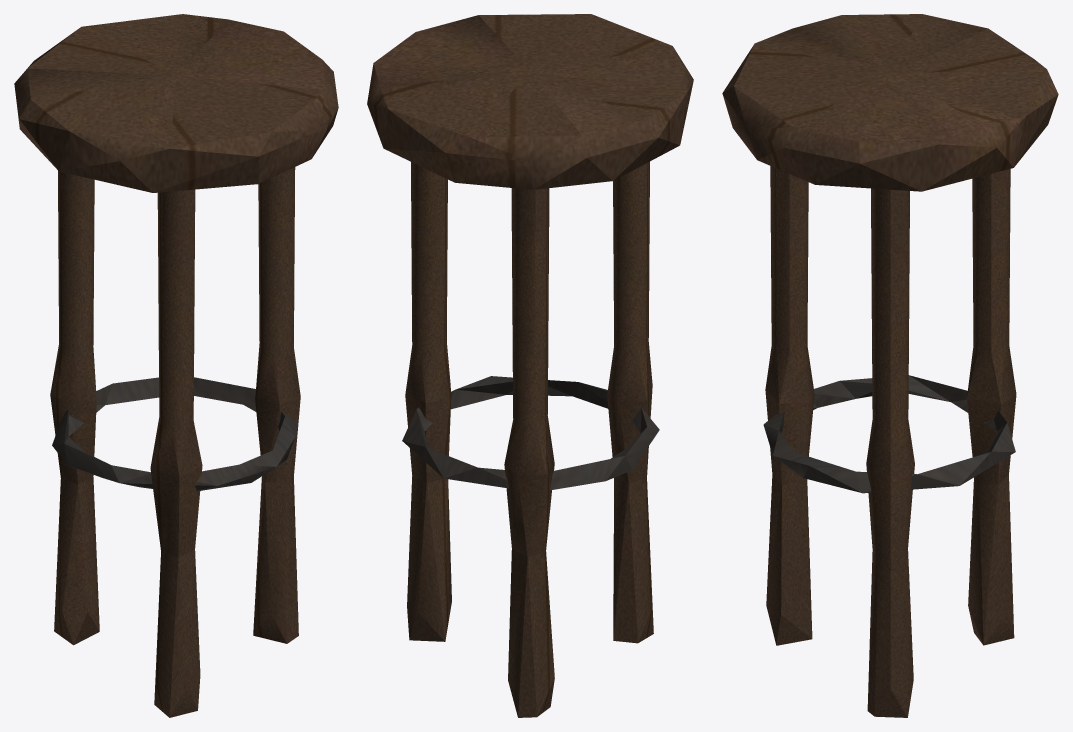
Rendered from stool_lod1.glb.
3 views of the same model, side by side, from view 1: azimuth 30°, elevation 25°; view 2: azimuth 150°, elevation 25°; view 3: azimuth 270°, elevation 25° (orthographic).
Visible parts, largest first — view 1: stool; view 2: stool; view 3: stool.
Part boxes in pixels (box(x1,y1,x2,y2)): stool: box(14, 14, 338, 717); stool: box(367, 14, 693, 717); stool: box(722, 14, 1058, 717).
Size of the model in its own units: 0.369 by 0.7256 by 0.3752.
Materials: 1 (1 with a texture image).
